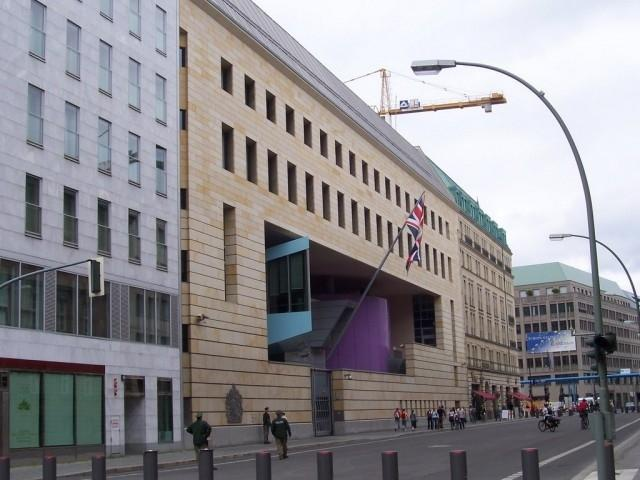non-vehicle: (536, 415, 555, 432), (581, 409, 590, 432)
